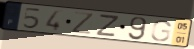4: (44, 9, 63, 32)
5: (21, 6, 43, 30)
9: (128, 16, 148, 42)
G: (150, 19, 173, 43)
Z: (70, 11, 96, 36), (94, 14, 121, 38)
